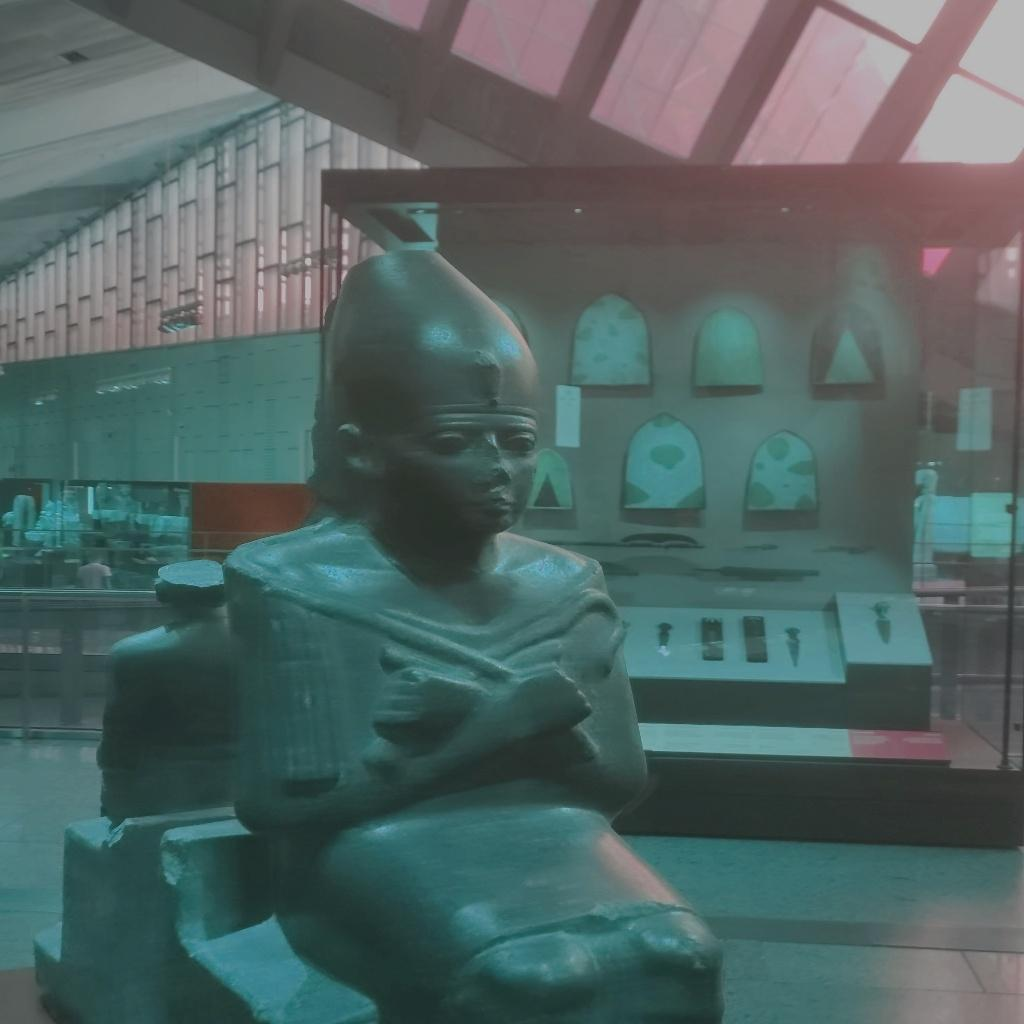Statue of Sobekhotep V: (199, 244, 732, 1020)
